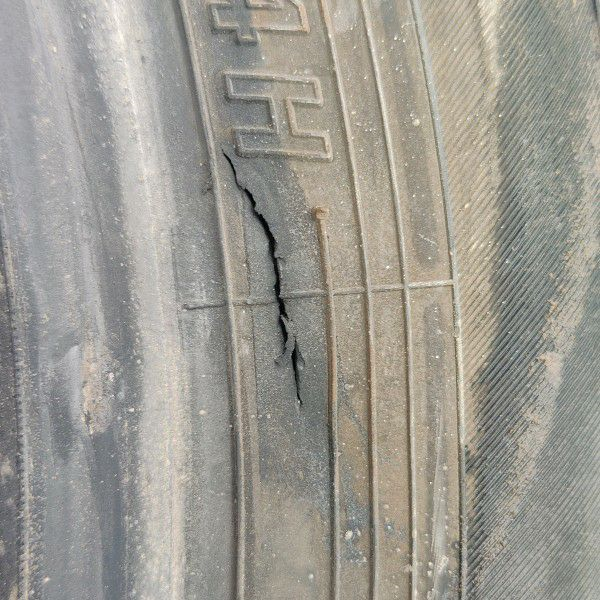cut: (220, 143, 307, 413)
